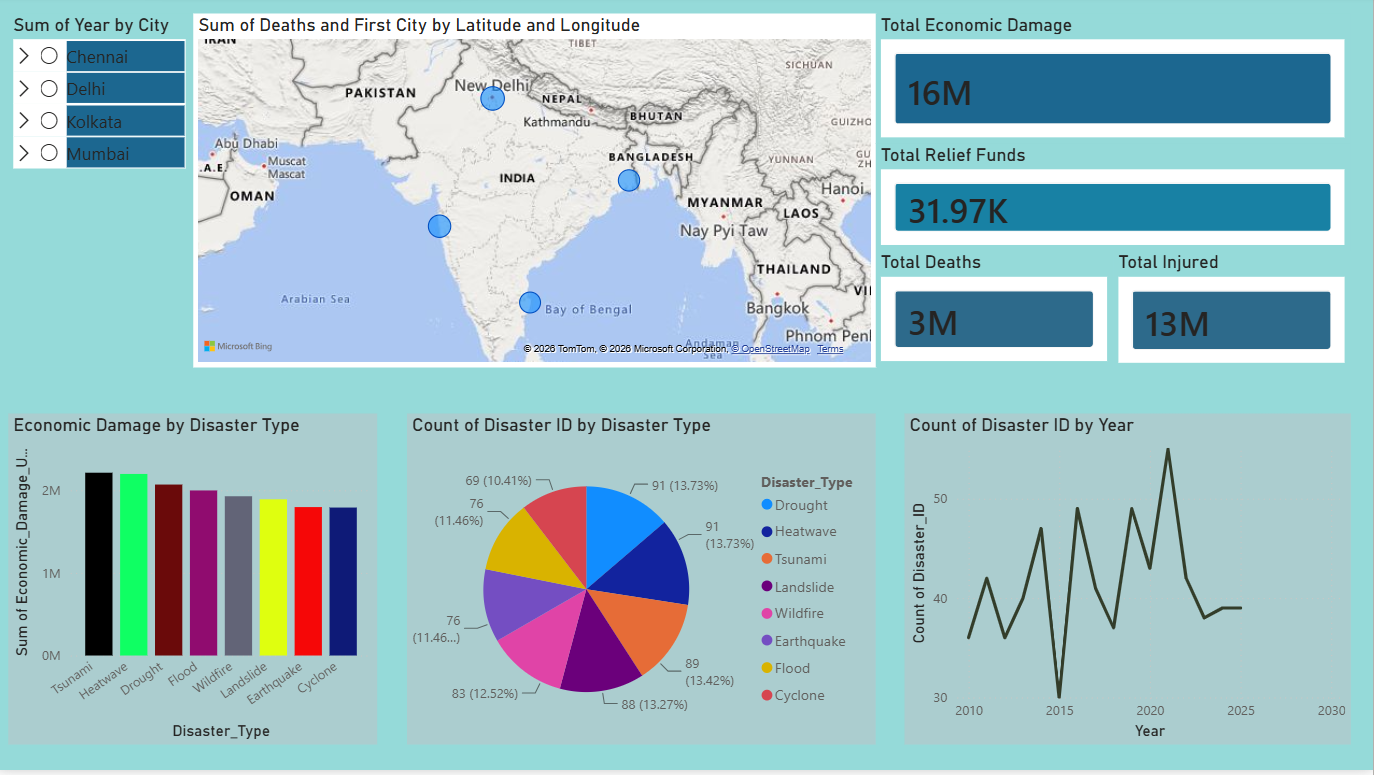

Layout of this report page (visuals, bound fields, positions):
{"tool":"powerbi","page":{"name":"Page 2","canvas":[1280,720],"ordinal":1},"visuals":[{"type":"lineChart","title":"Count of Disaster ID by Year","fields":{"Category":["Sheet1.Year"],"Y":["CountNonNull(Sheet1.Disaster_ID)"]},"box":[844.2,388.4,415.1,308.1],"z":0},{"type":"columnChart","title":"Economic Damage by Disaster Type","fields":{"Category":["Sheet1.Disaster_Type"],"Y":["Sum(Sheet1.Economic_Damage_USD_Millions)"]},"box":[10.5,388.4,343,308.1],"z":1000},{"type":"pieChart","title":"Count of Disaster ID by Disaster Type","fields":{"Category":["Sheet1.Disaster_Type"],"Y":["CountNonNull(Sheet1.Disaster_ID)"]},"box":[381.4,388.4,436,308.1],"z":2000},{"type":"map","fields":{"Y":["Sheet1.Latitude"],"X":["Sheet1.Longitude"],"Size":["Sum(Sheet1.Deaths)"]},"box":[182.6,16.3,634.9,329.1],"z":3000},{"type":"listSlicer","fields":{"Values":["Sheet1.City","Sheet1.Disaster_Type","Sheet1.Severity"]},"box":[10.5,16.3,170.9,329.1],"z":4000},{"type":"cardVisual","title":"Total Economic Damage","fields":{"Data":["Sum(Sheet1.Economic_Damage_USD_Millions)"]},"box":[817.4,16.3,441.9,120.9],"z":5000},{"type":"cardVisual","title":"Total Relief Funds","fields":{"Data":["Sum(Sheet1.Relief_Funds_USD_Millions)"]},"box":[817.4,137.2,441.9,100],"z":6000},{"type":"cardVisual","title":"Total Deaths","fields":{"Data":["Sum(Sheet1.Deaths)"]},"box":[817.4,237.2,220.9,108.1],"z":7000},{"type":"cardVisual","title":"Total Injured","fields":{"Data":["Sum(Sheet1.Injured)"]},"box":[1038.4,237.2,220.9,109.3],"z":8000}]}

Visuals, with their boxes in screenshot pixels (x1, y1, x2, y2), scaled from the page's 1280x720 canvas onto the 1375x775 screenshot:
"Count of Disaster ID by Year" lineChart: pyautogui.locateOnScreen(907, 418, 1353, 750)
"Economic Damage by Disaster Type" columnChart: pyautogui.locateOnScreen(11, 418, 380, 750)
"Count of Disaster ID by Disaster Type" pieChart: pyautogui.locateOnScreen(410, 418, 878, 750)
map - Sheet1.Latitude x Sheet1.Longitude: pyautogui.locateOnScreen(196, 18, 878, 372)
listSlicer - Sheet1.City x Sheet1.Disaster_Type: pyautogui.locateOnScreen(11, 18, 195, 372)
"Total Economic Damage" cardVisual: pyautogui.locateOnScreen(878, 18, 1353, 148)
"Total Relief Funds" cardVisual: pyautogui.locateOnScreen(878, 148, 1353, 255)
"Total Deaths" cardVisual: pyautogui.locateOnScreen(878, 255, 1115, 372)
"Total Injured" cardVisual: pyautogui.locateOnScreen(1115, 255, 1353, 373)
